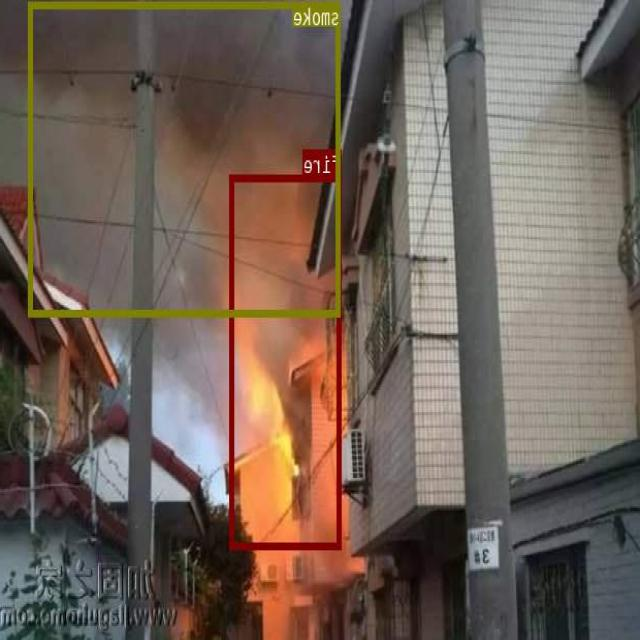fire: (230, 174, 343, 549)
smoke: (29, 2, 341, 315)
